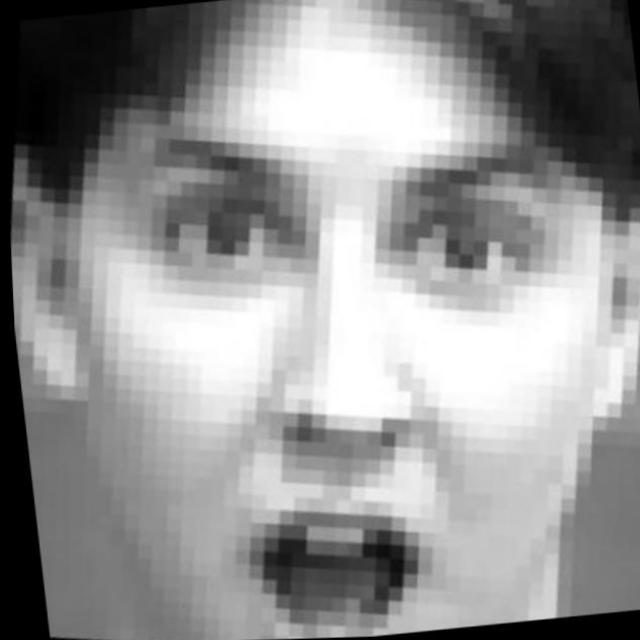Surprised: (16, 63, 640, 640)
